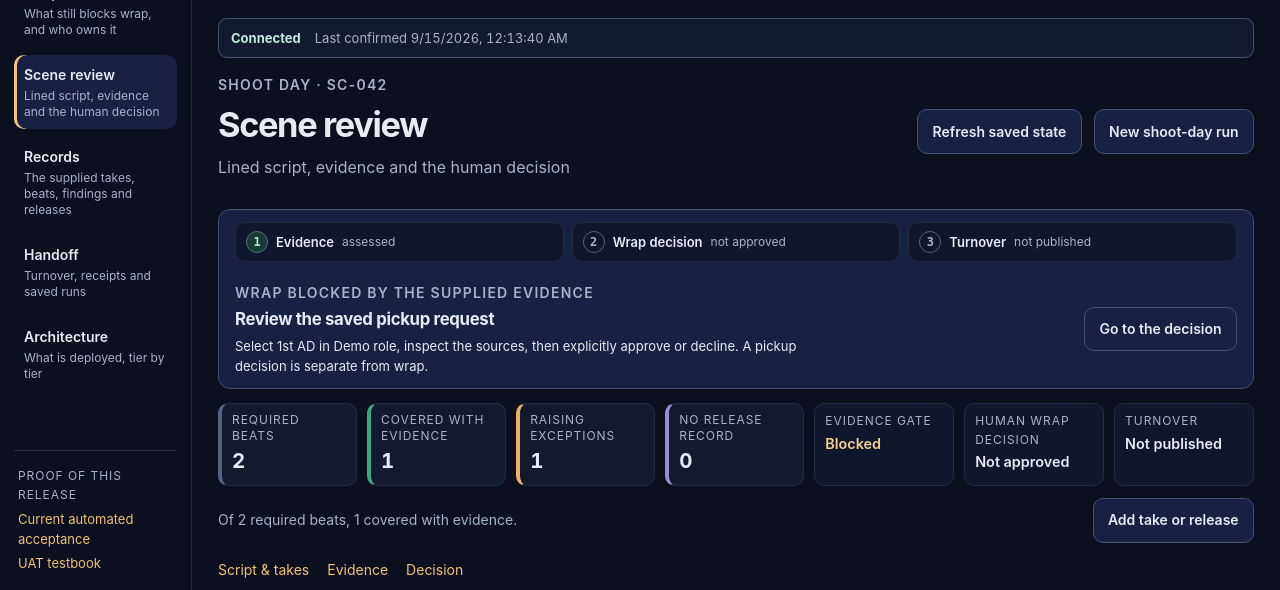
it: route focus and snapshot integrity › locks writing after a failed refresh and re-enables it only after recovery
The width and height of the screenshot is (1280, 590).
Click the button "Refresh saved state" at (999, 132), box [917,109,1082,154]
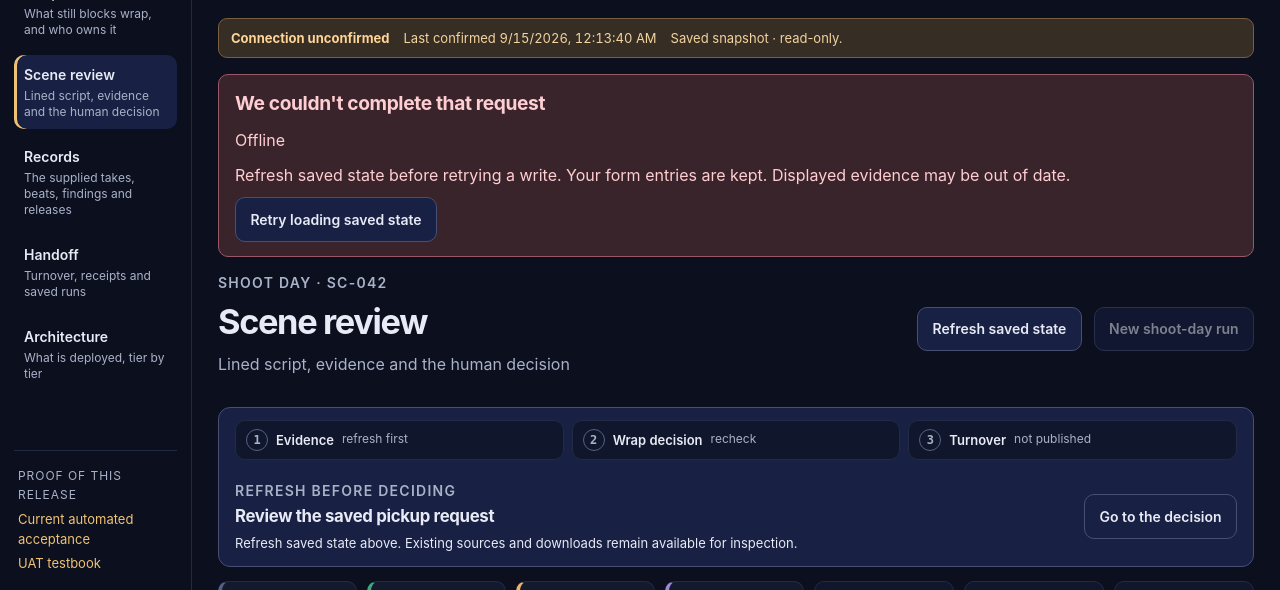
Expected: the message that starts with "We couldn't complete that request" shows "Displayed evidence may be out of date", [235,165,1070,185]
Click the button "Retry loading saved state" at (336, 220), box [235,197,437,242]
(page scrolled)
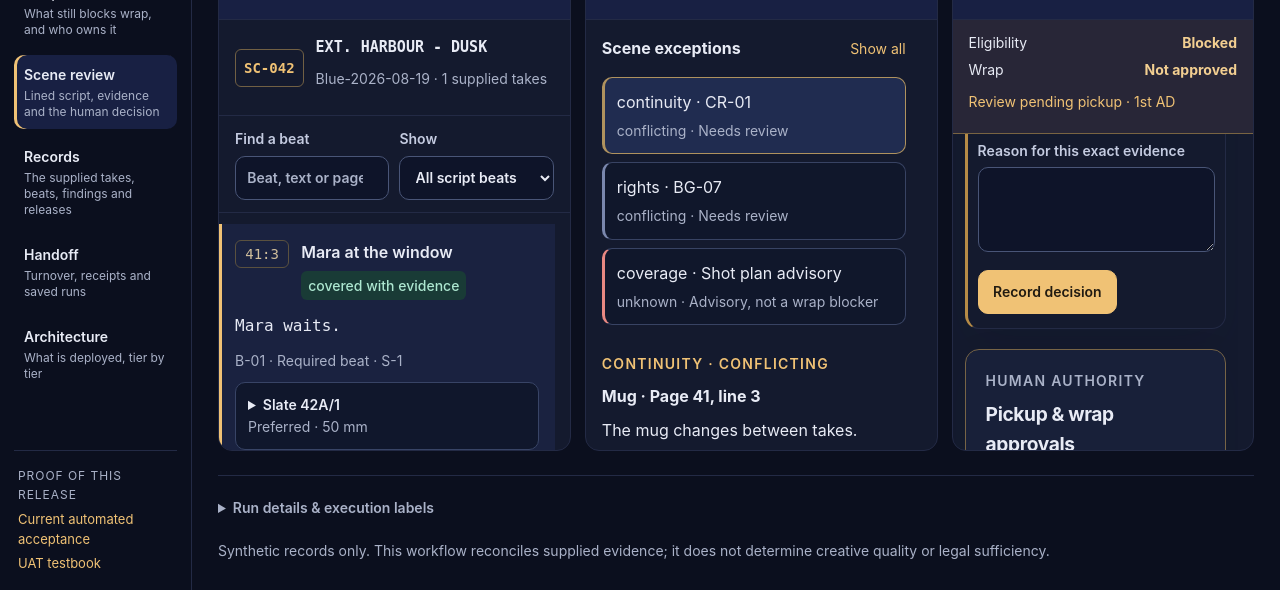
Expected: the button "Record decision" is enabled, [978,270,1117,314]
